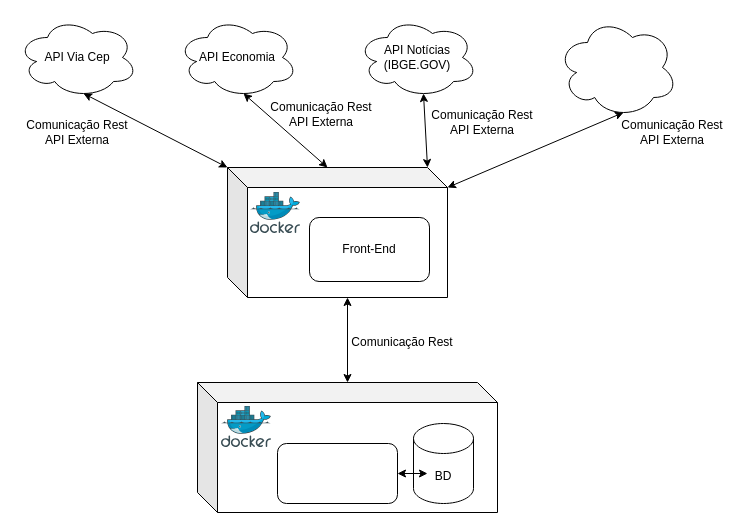
Image size: 745x530. Some labels were removed from this diagram. Each missing label, with the centre of its shape:
API: (337,473)
API Previsão do Tempo (HG Brasil): (617,67)
